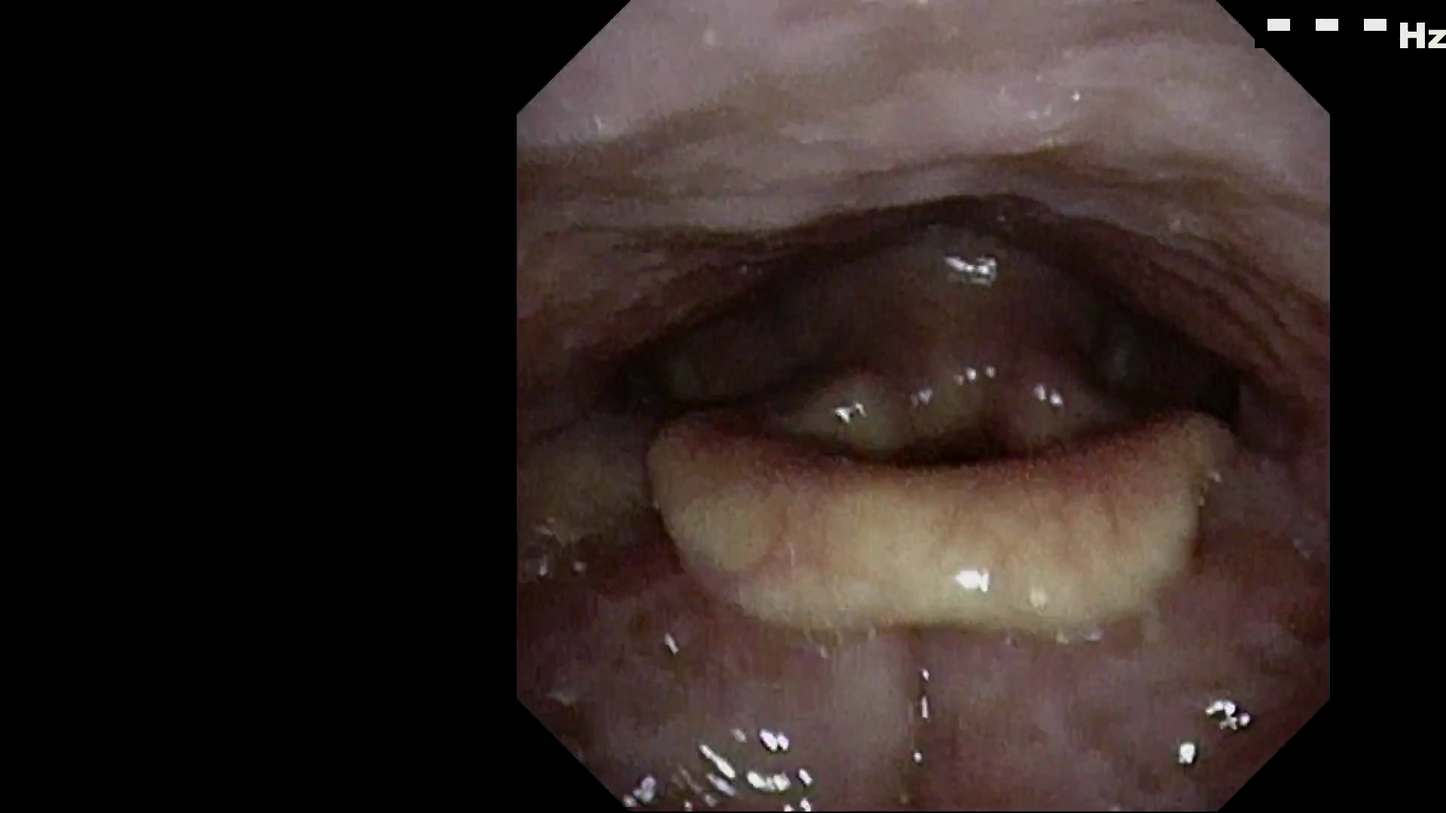epiglottis: (648, 411, 1200, 630)
